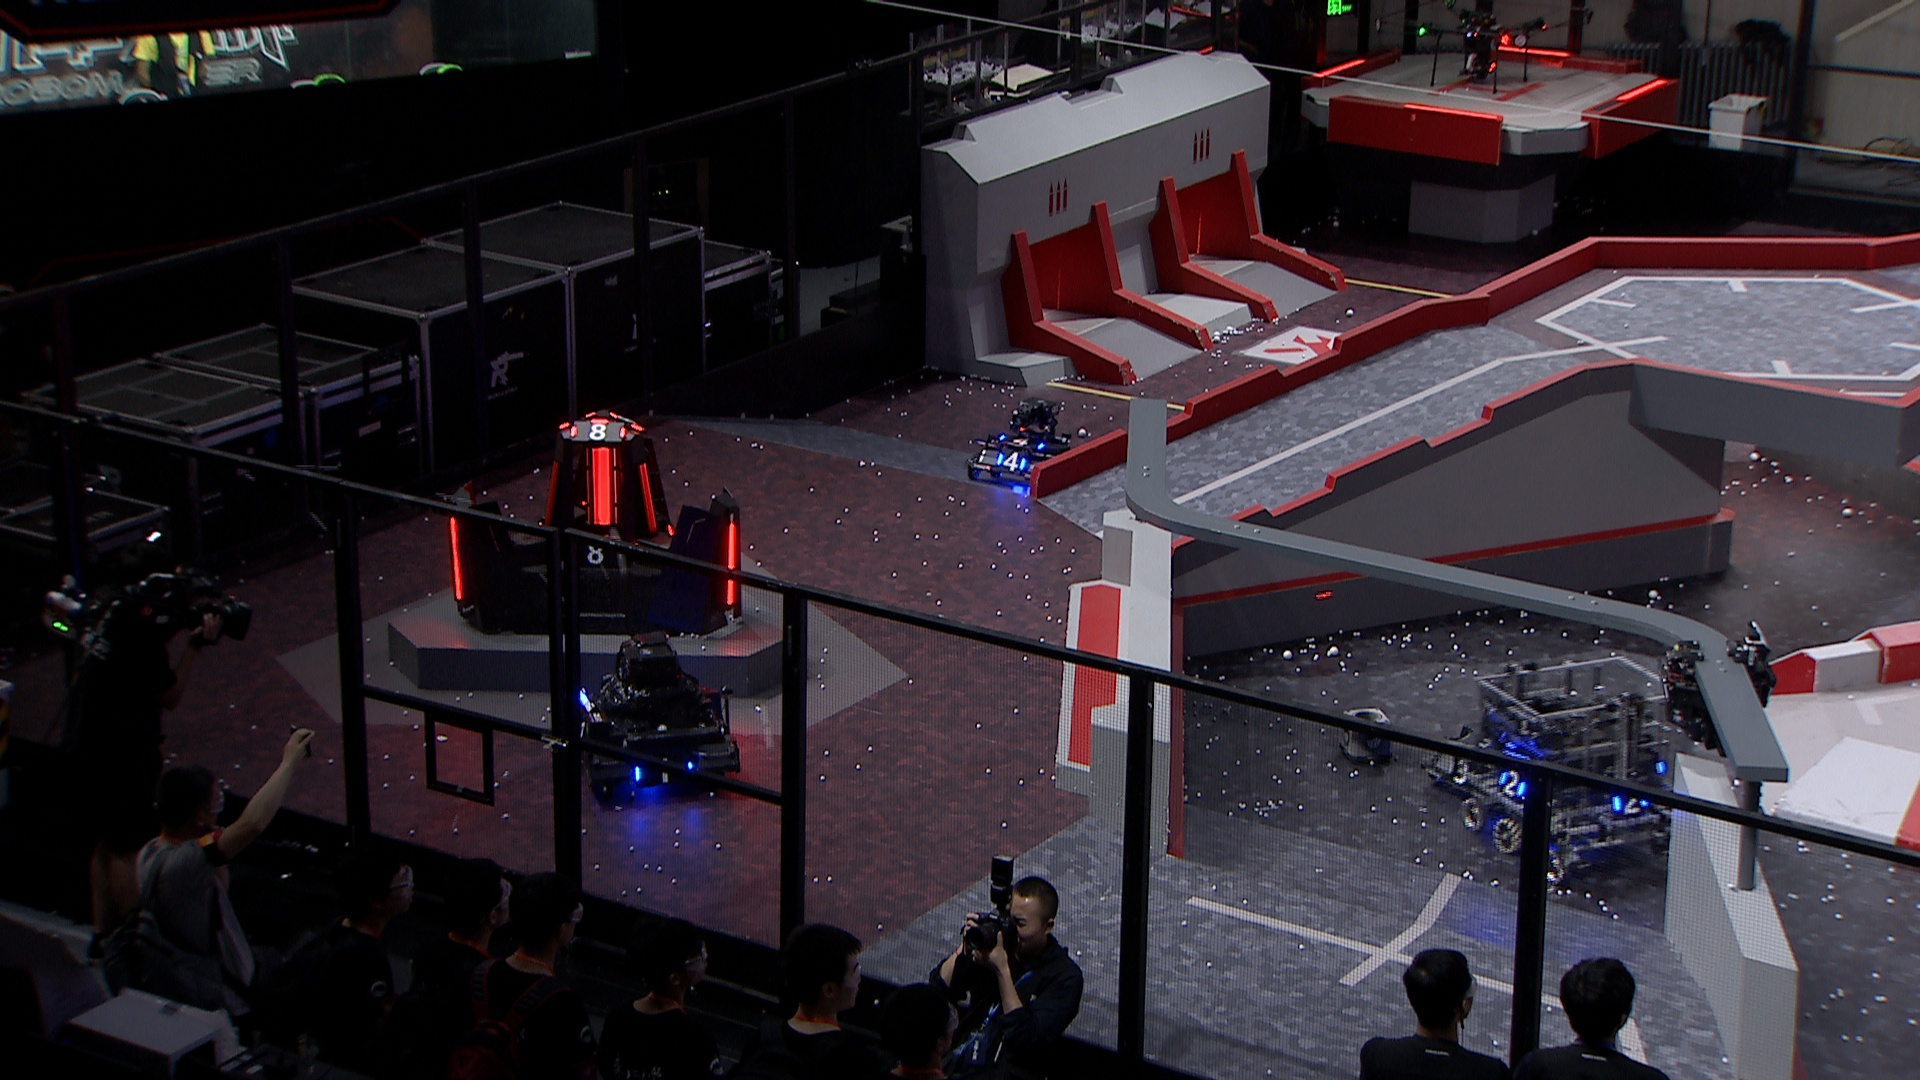armor: (585, 450, 621, 527), (717, 520, 745, 609), (632, 750, 695, 787), (443, 517, 467, 604), (539, 458, 570, 524), (638, 462, 661, 538), (568, 541, 622, 571), (566, 419, 628, 446), (1460, 727, 1503, 761), (1610, 785, 1648, 815), (1447, 756, 1481, 787), (998, 431, 1044, 454), (1495, 769, 1528, 798), (570, 717, 597, 749), (994, 451, 1027, 473)
base: (440, 404, 746, 633)
car: (1458, 651, 1700, 884), (564, 626, 746, 803), (1423, 692, 1557, 804), (961, 392, 1083, 488)
watcher: (1658, 615, 1779, 761)
